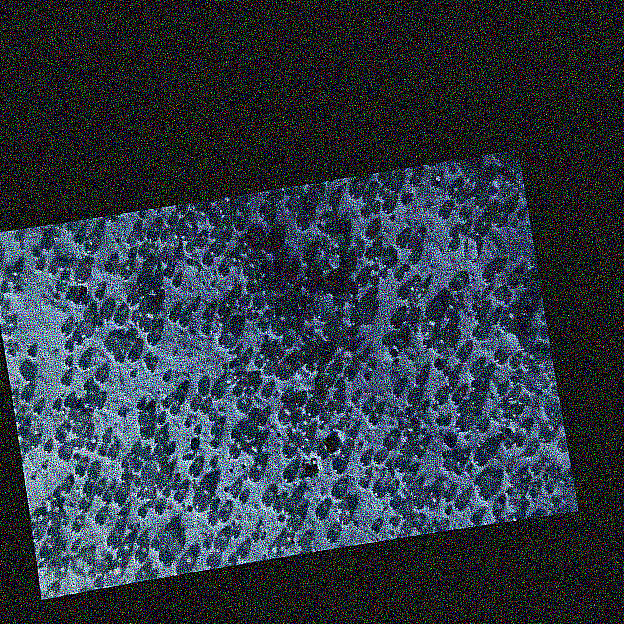GrassBeadSeg: (3, 278, 524, 542), (4, 270, 560, 508), (14, 197, 463, 489), (91, 227, 468, 567), (135, 165, 522, 496), (161, 152, 503, 496), (46, 265, 492, 515), (93, 314, 485, 588), (64, 167, 456, 434), (160, 230, 457, 576), (133, 243, 461, 547), (71, 195, 447, 459), (151, 205, 543, 458), (163, 284, 512, 566), (84, 153, 506, 384), (83, 210, 469, 452), (101, 262, 538, 475), (34, 205, 466, 416), (135, 275, 493, 518), (96, 246, 409, 519), (50, 326, 538, 499), (133, 358, 532, 563), (63, 221, 481, 407), (0, 252, 281, 514), (263, 184, 477, 519), (226, 215, 549, 436), (301, 237, 520, 549), (68, 303, 478, 467), (25, 342, 444, 495), (102, 206, 271, 582), (0, 295, 257, 542), (294, 278, 519, 550), (72, 357, 534, 489), (155, 293, 478, 479), (28, 277, 321, 481), (19, 390, 407, 544), (165, 217, 411, 457), (205, 236, 407, 525), (59, 325, 396, 498), (41, 340, 433, 488), (153, 288, 409, 514), (92, 290, 481, 438), (60, 420, 449, 566), (206, 243, 454, 471), (64, 292, 438, 438), (199, 328, 511, 498), (67, 306, 438, 443), (67, 297, 265, 553), (193, 350, 504, 511), (211, 316, 417, 554), (78, 229, 264, 492), (173, 224, 377, 460), (94, 364, 459, 490), (159, 320, 399, 510), (177, 166, 457, 327), (148, 308, 440, 454), (126, 252, 506, 363), (71, 335, 470, 433), (216, 276, 367, 523), (306, 190, 480, 397), (190, 406, 546, 506), (65, 292, 393, 392), (84, 404, 415, 502), (75, 419, 292, 568), (93, 458, 540, 526), (105, 461, 452, 548), (186, 363, 443, 478), (34, 262, 310, 364), (149, 483, 552, 552), (240, 266, 483, 377), (38, 239, 120, 550), (173, 225, 305, 408), (30, 253, 155, 441), (301, 403, 481, 526), (72, 293, 314, 383), (30, 249, 128, 471), (31, 367, 483, 415), (228, 342, 432, 443), (100, 474, 412, 538), (199, 257, 319, 419), (53, 397, 399, 453), (199, 250, 373, 356), (216, 334, 317, 511), (288, 307, 381, 492), (59, 235, 135, 461), (332, 298, 447, 447), (55, 268, 140, 462), (236, 387, 463, 458), (80, 311, 187, 461), (272, 367, 371, 529), (28, 411, 328, 460), (214, 306, 470, 363), (163, 257, 332, 339), (4, 263, 169, 345), (364, 251, 514, 333), (19, 223, 138, 324), (105, 395, 291, 459), (233, 499, 423, 560), (387, 316, 468, 458), (135, 477, 487, 509), (145, 334, 266, 427), (72, 382, 346, 423), (244, 460, 368, 548), (332, 264, 411, 402), (496, 317, 554, 495), (113, 457, 257, 527), (207, 368, 319, 457), (363, 350, 474, 435), (72, 347, 519, 368), (392, 176, 472, 289), (236, 422, 307, 549), (445, 314, 557, 392), (330, 420, 487, 475), (235, 189, 361, 257), (111, 353, 249, 414), (287, 490, 489, 531), (315, 240, 417, 319), (279, 431, 553, 459), (274, 377, 426, 426), (170, 279, 291, 340), (351, 207, 423, 307), (168, 353, 307, 402), (136, 251, 219, 333), (220, 341, 446, 371), (277, 275, 367, 350), (108, 450, 238, 499), (463, 376, 542, 456), (41, 450, 151, 507), (37, 487, 125, 558), (24, 375, 102, 454), (455, 441, 565, 496), (298, 308, 434, 352), (320, 245, 370, 362), (392, 172, 497, 227), (195, 238, 275, 309), (283, 191, 373, 254), (46, 510, 126, 579), (345, 373, 454, 419), (95, 351, 157, 426), (168, 304, 253, 356), (442, 484, 564, 520), (331, 372, 490, 397), (364, 465, 421, 533), (195, 400, 251, 467), (258, 493, 465, 511), (304, 254, 377, 305), (113, 215, 147, 321), (152, 194, 321, 214), (471, 307, 546, 351), (30, 388, 304, 400), (347, 395, 419, 440), (380, 438, 487, 466), (232, 357, 320, 390), (69, 310, 127, 360), (309, 385, 349, 457), (242, 417, 329, 450), (157, 532, 239, 566), (159, 230, 218, 277), (16, 426, 78, 470), (0, 234, 22, 356), (167, 400, 215, 455), (268, 322, 431, 338), (489, 265, 534, 322), (160, 385, 221, 425), (81, 459, 141, 497), (386, 463, 433, 511), (65, 225, 141, 254), (308, 354, 369, 389), (54, 264, 90, 322), (287, 469, 327, 521), (125, 269, 171, 314), (474, 177, 514, 228), (280, 469, 344, 500), (227, 345, 264, 398), (201, 215, 257, 250), (67, 524, 103, 578), (59, 476, 166, 494), (147, 279, 272, 294), (116, 402, 163, 439), (359, 454, 381, 533), (264, 269, 310, 306), (38, 493, 78, 533), (119, 247, 160, 286), (60, 359, 94, 405), (328, 190, 381, 219), (93, 214, 141, 245), (175, 201, 242, 223), (432, 393, 455, 448), (518, 473, 565, 493), (302, 253, 339, 277), (376, 175, 398, 213), (136, 215, 157, 254), (32, 530, 53, 561), (542, 405, 559, 419)
